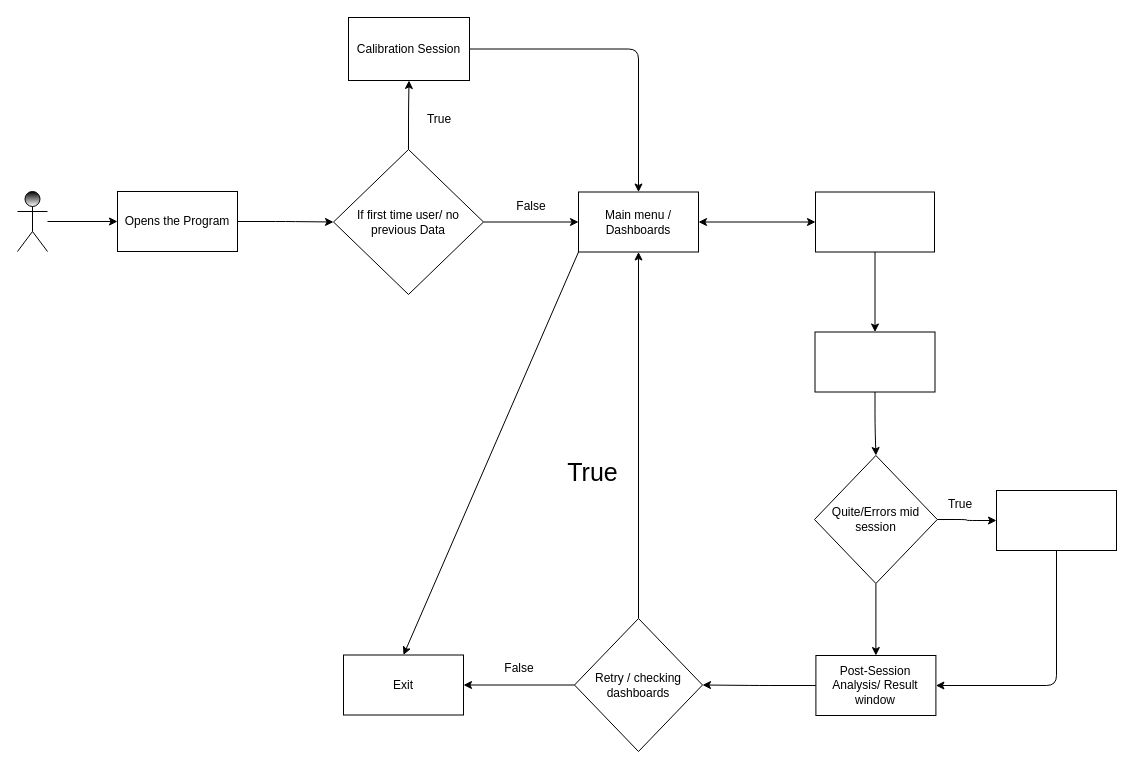
This 1134x769 diagram has some shape labels left out. Each missing label, with the centre of its shape:
"Active Session" goes at point (874, 361).
"Actor" goes at point (32, 221).
"Evaluate based on current incomplete data" goes at point (1056, 520).
"Mode Selection and session config" goes at point (874, 221).
